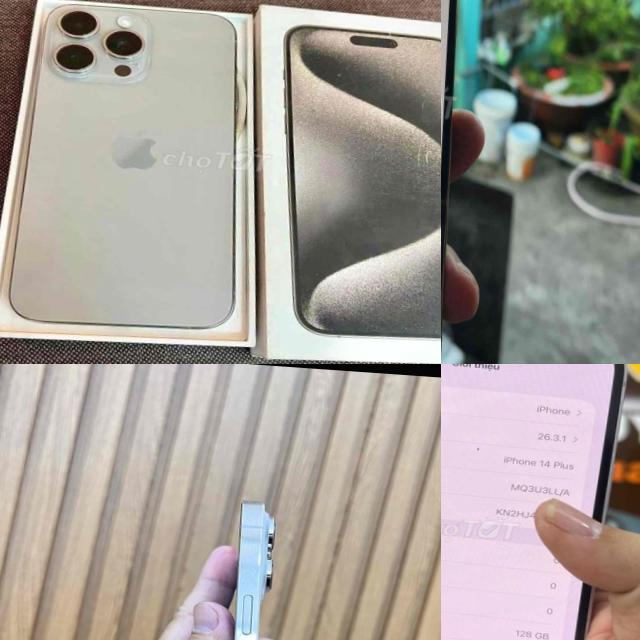gen_12_13: (441, 0, 482, 364)
gen_14: (441, 364, 610, 640), (204, 493, 293, 640)
gen_15: (8, 0, 266, 348)
scratch: (236, 549, 266, 638)
